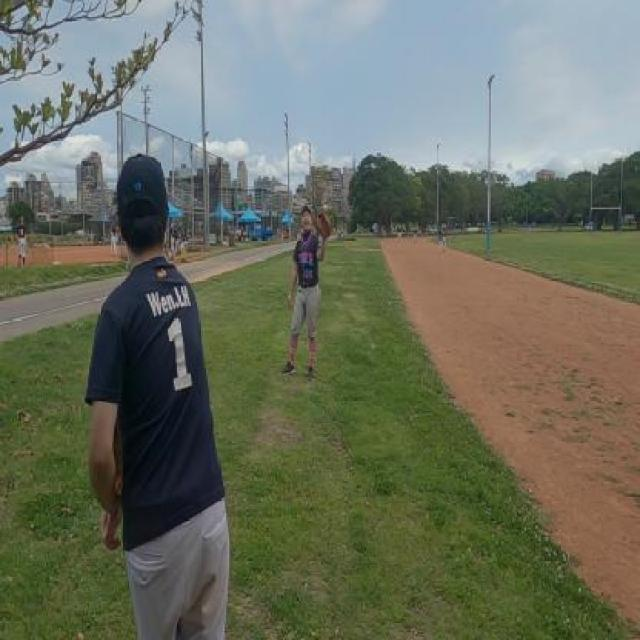baseball: (323, 204, 328, 213)
